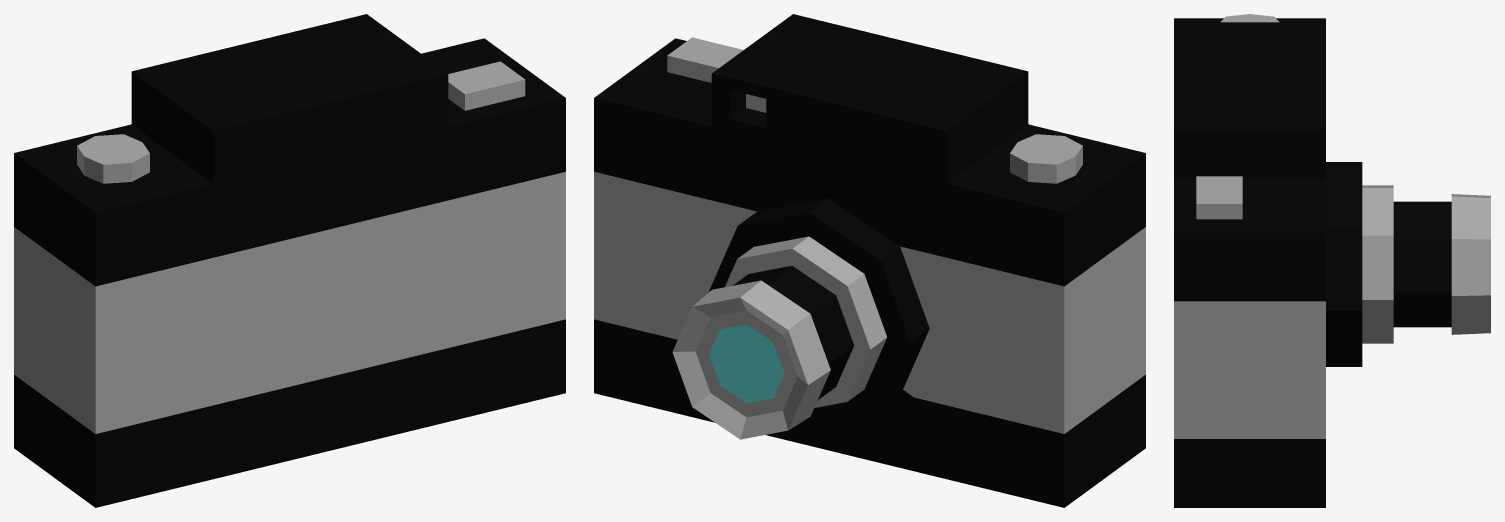
File: PhotoCamera.fbx
The picture shows the model from 3 angles, left to right: view 1: azimuth 30°, elevation 25°; view 2: azimuth 150°, elevation 25°; view 3: azimuth 270°, elevation 25°; orthographic projection. The views are drawn at different scales.
Visible parts, largest first — view 1: Camera; view 2: Camera; view 3: Camera.
Part boxes in pixels (x1,y1,x2,y2): Camera: (14, 14, 565, 507); Camera: (594, 14, 1145, 507); Camera: (1174, 14, 1490, 507).
Bounding box in the file's own units: 0.1 × 0.0626 × 0.0708.
